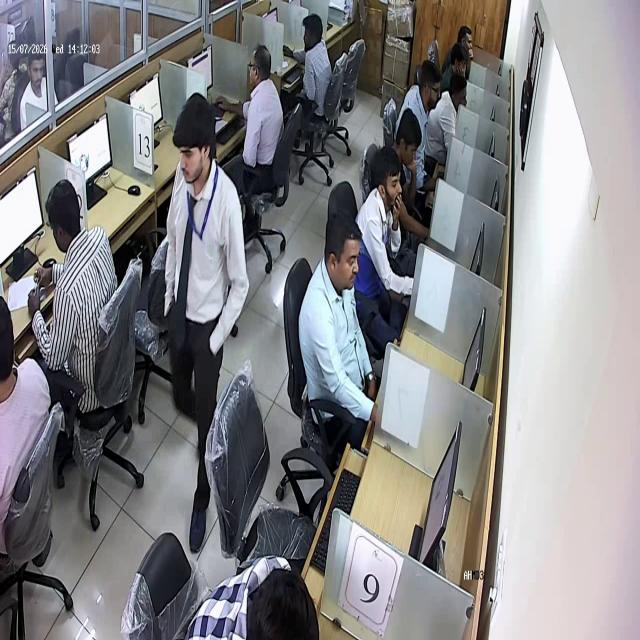paper-chit: (34, 277, 42, 295)
